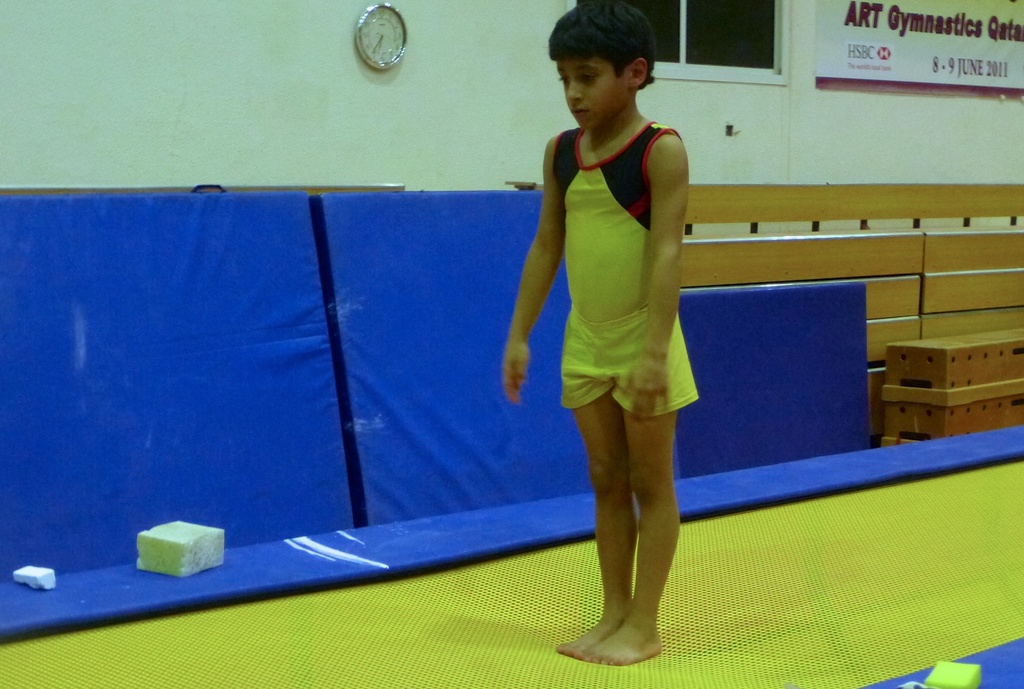Person: (500, 0, 699, 665)
